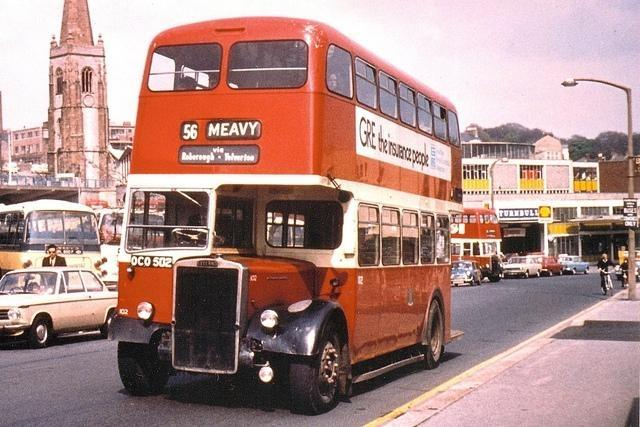bicycle: (601, 268, 615, 296), (622, 269, 629, 290)
bus: (108, 16, 464, 416), (0, 199, 106, 284), (449, 204, 509, 282), (94, 209, 125, 246)
car: (1, 266, 118, 350), (500, 258, 546, 278), (450, 261, 482, 288), (535, 255, 564, 277), (561, 256, 590, 275)
